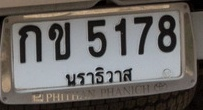txt01: (17, 24, 45, 65)
txt02: (47, 22, 73, 62)
